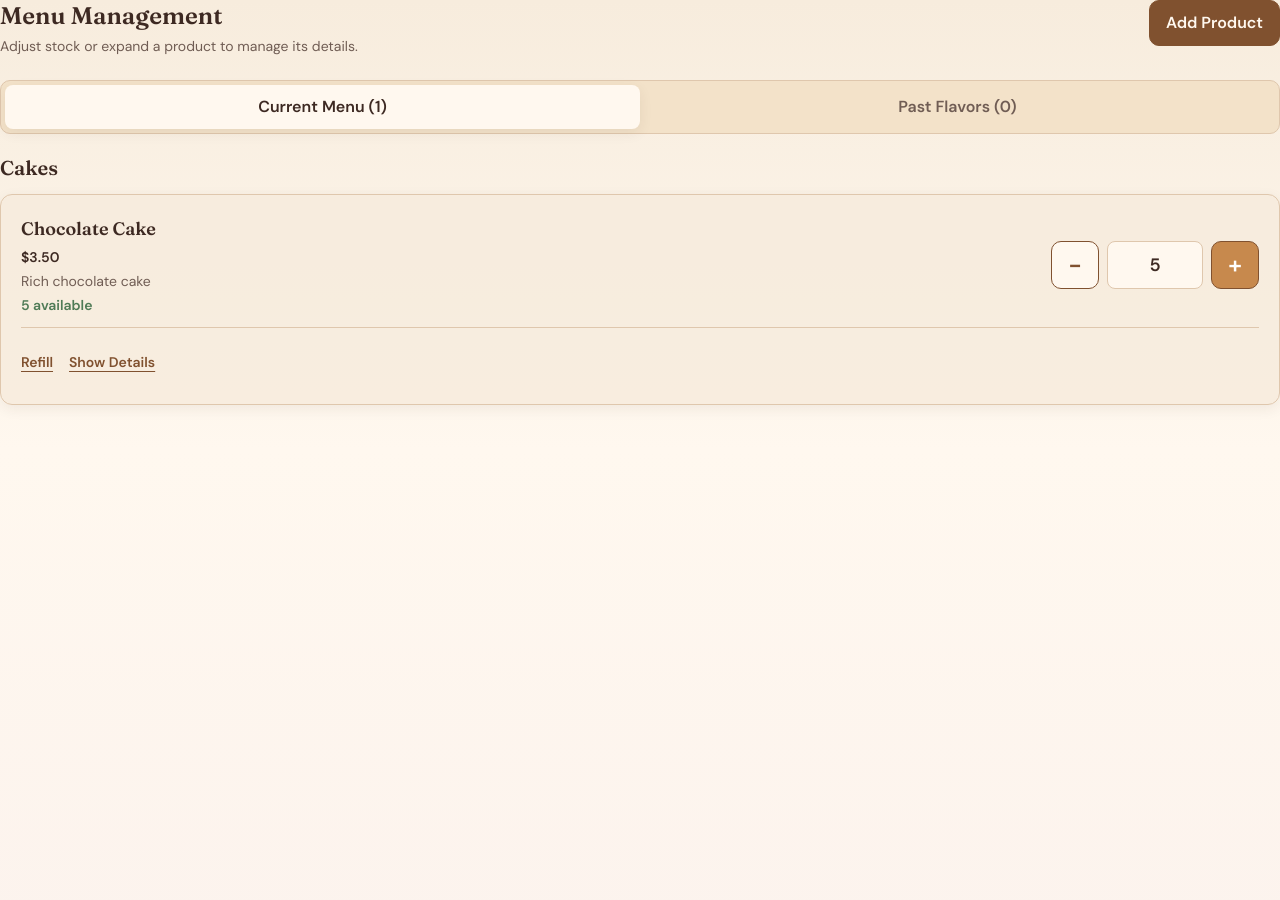
Test: AdminMenu refill interaction › continues to create products through the shared Add Product action
This screenshot has width=1280, height=900.
Check: the heading "Chocolate Cake" is shown, box [21,217,156,240]
Click the button "Add Product": (1214,23) [1149,0,1279,46]
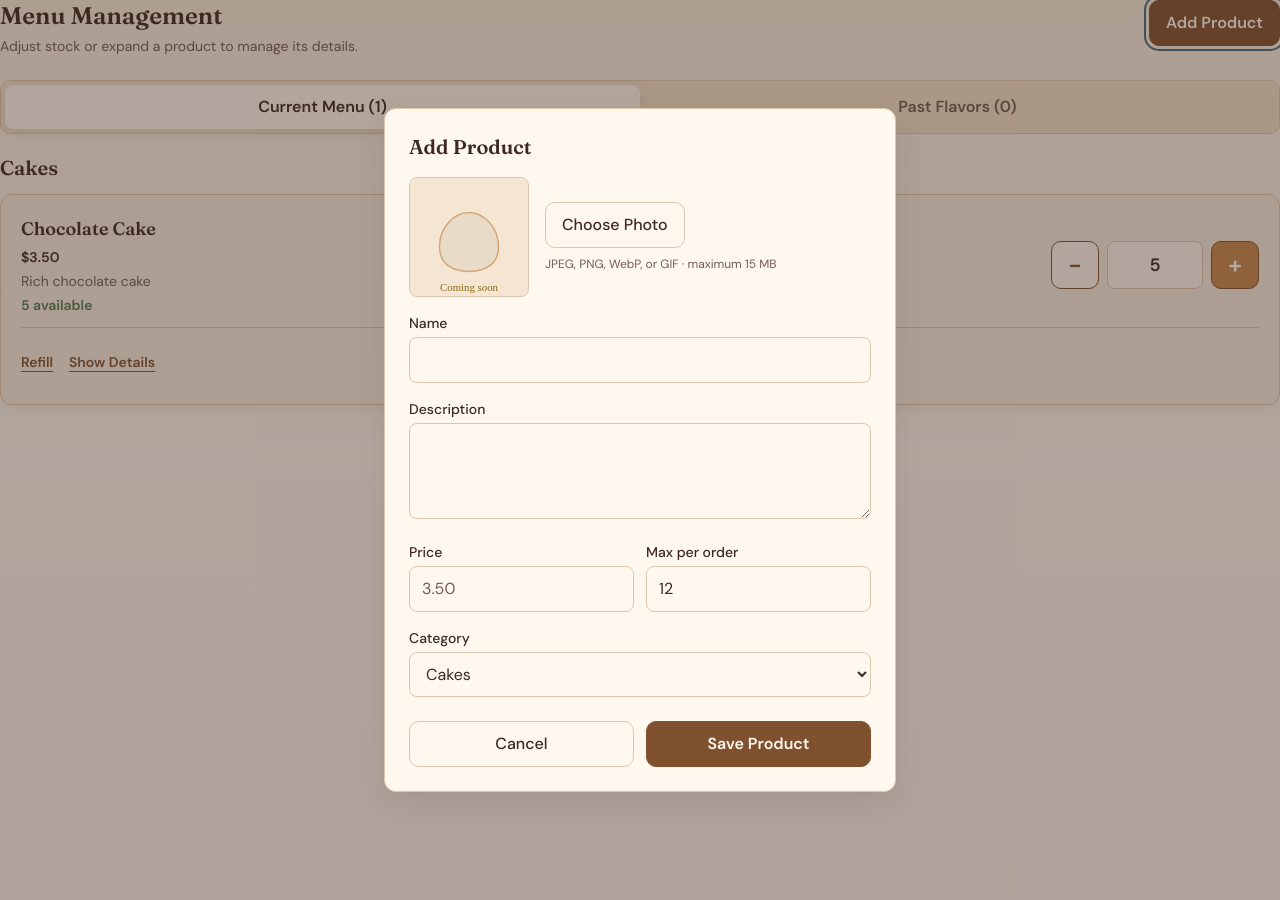
In the field labelled "Name": (640,360) [409,337,871,383], type "Vanilla Cake"
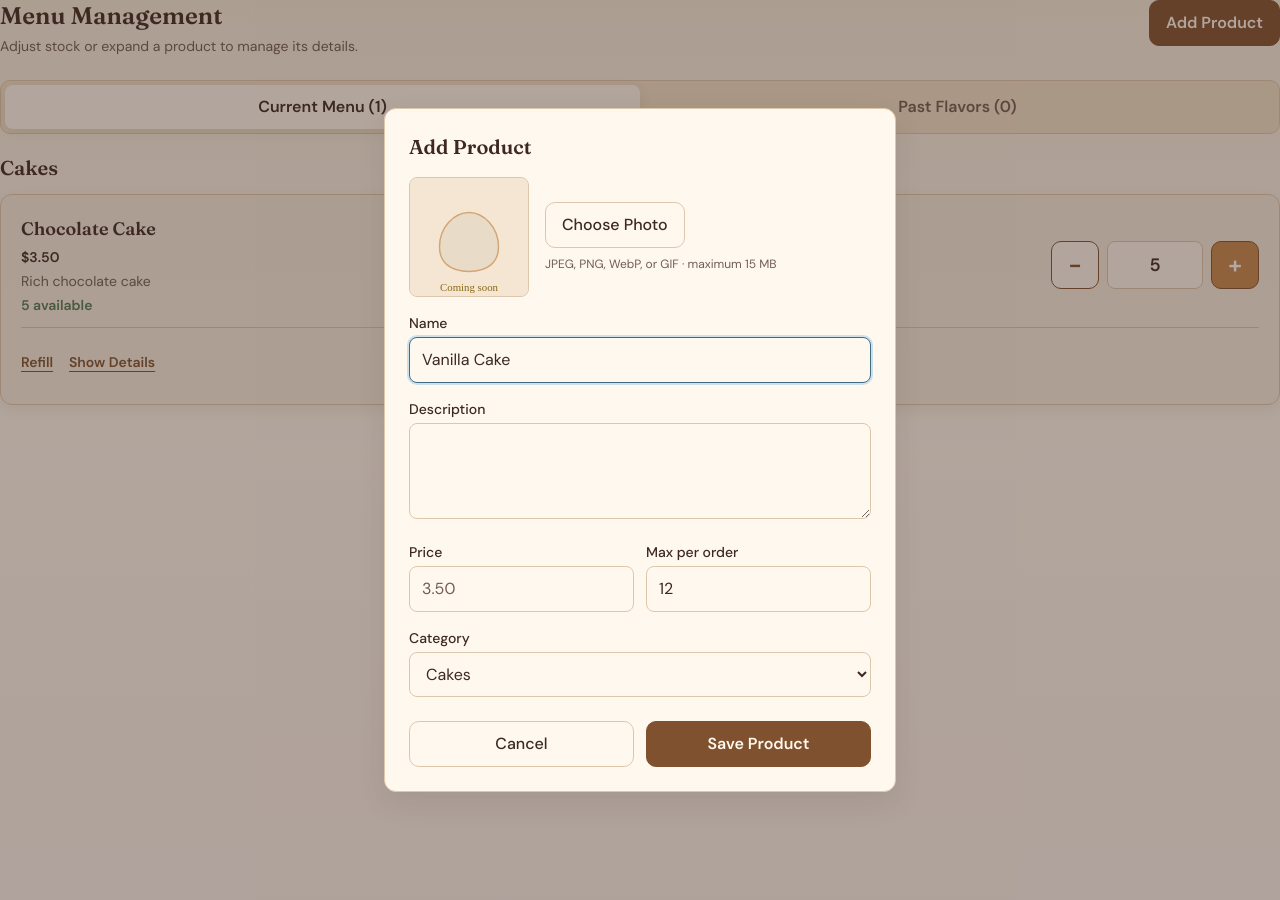
In the field labelled "Price": (522,589) [409,566,634,612], type "4.50"
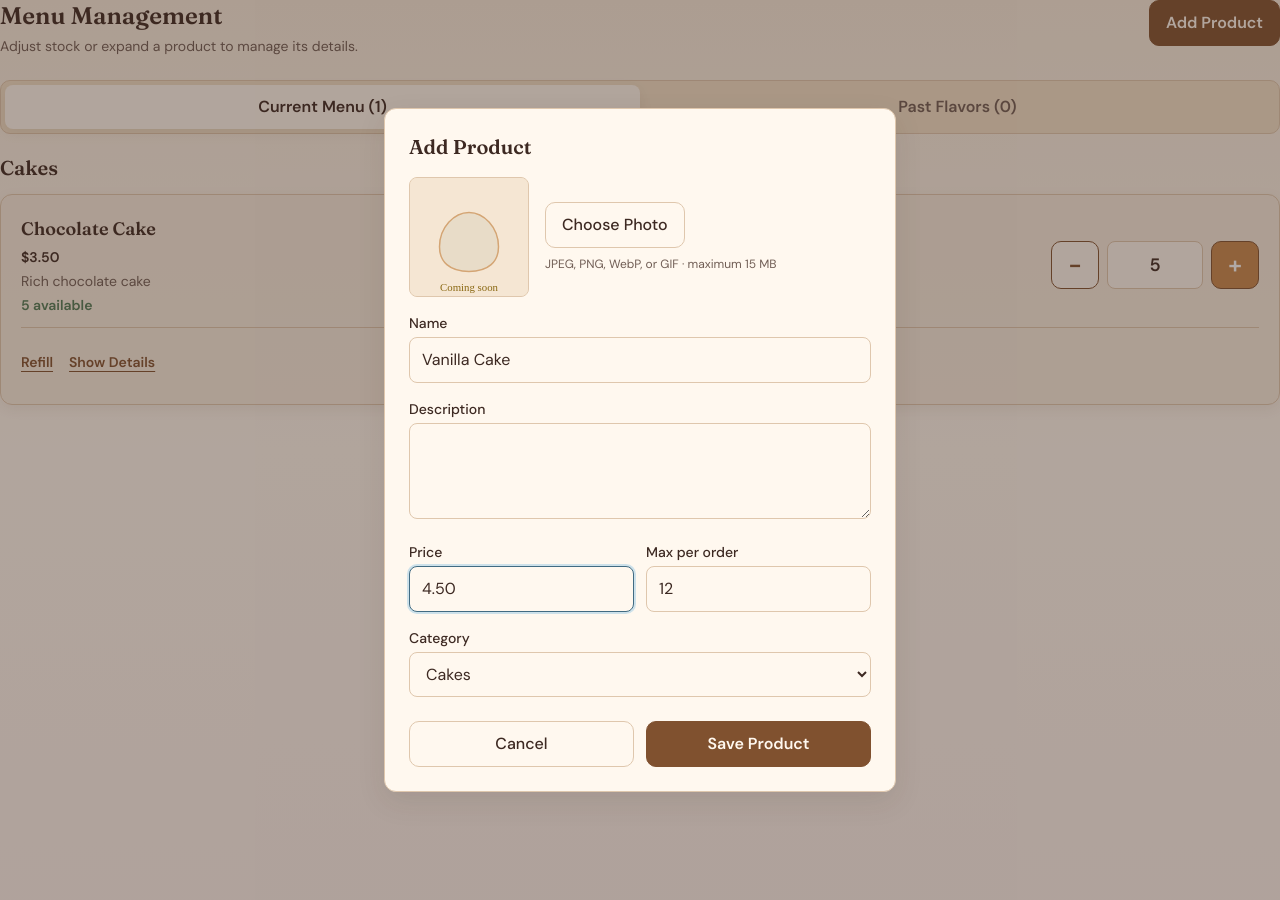
Click the button "Save Product": (758,744) [646,721,871,767]
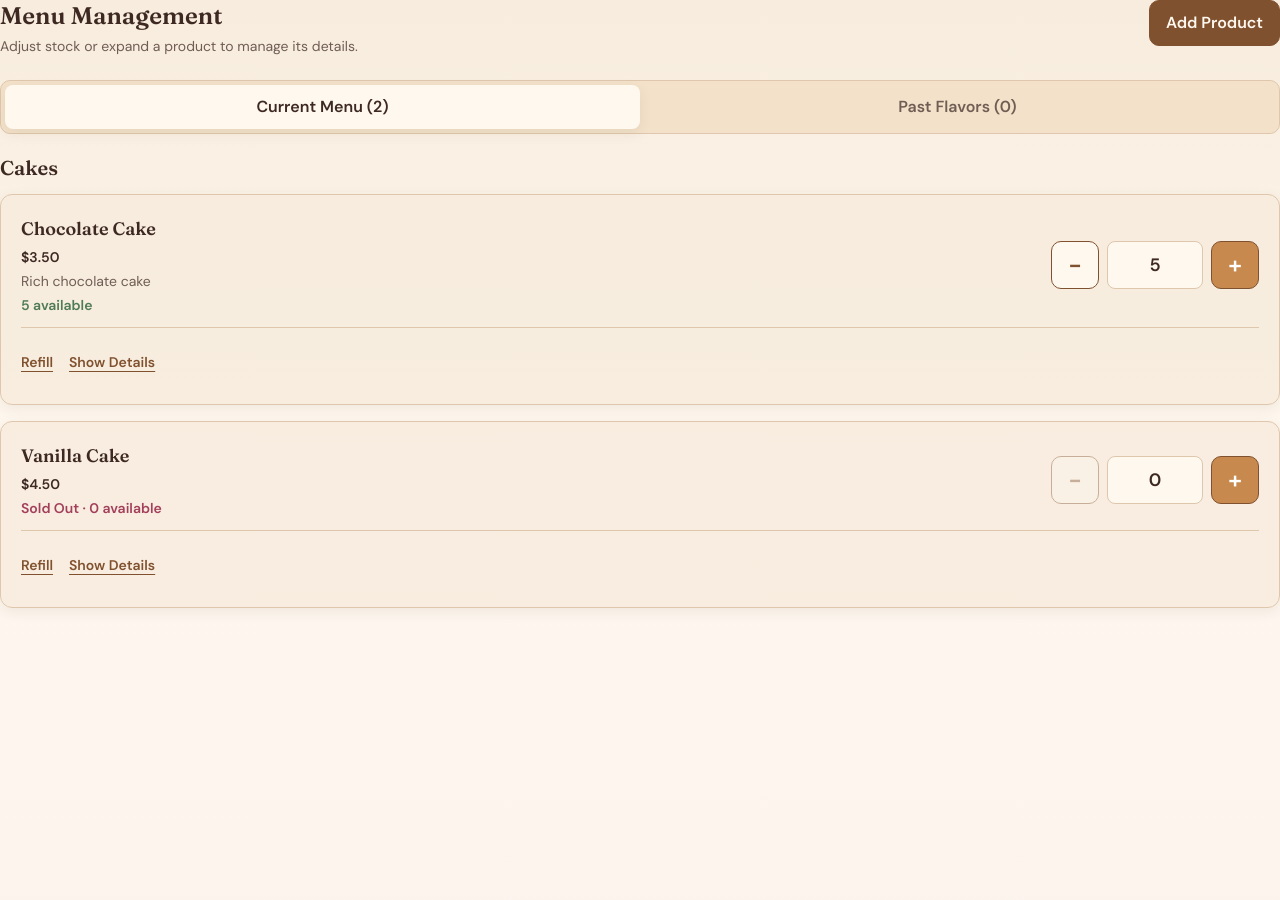
Check: the heading "Vanilla Cake" is shown, box [21,444,129,467]
